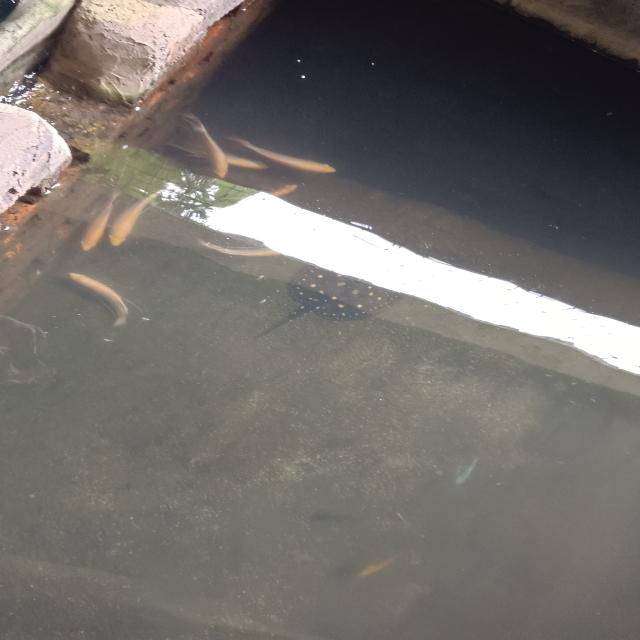black-diamond-sting-ray: (222, 241, 448, 360)
